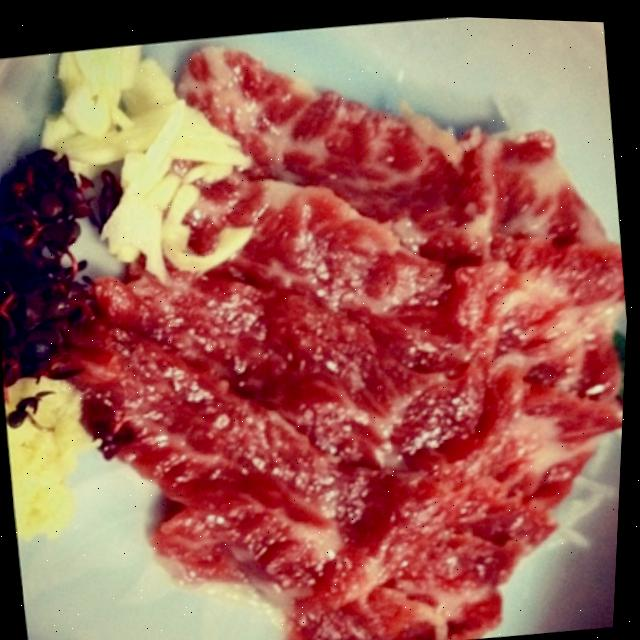刺身生食: (8, 9, 640, 640)
